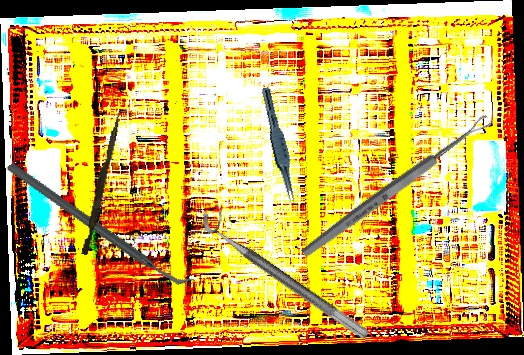Chopper: (5, 114, 195, 335)
Fixation Ring: (195, 199, 380, 342)
Pusher: (81, 110, 122, 256)
Surgical Spoon: (299, 113, 494, 260)
Tissue Forceps: (254, 86, 303, 206)
